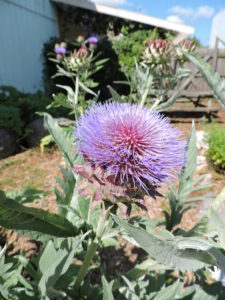thistle: (70, 97, 186, 209), (52, 43, 64, 64), (86, 35, 100, 53)
